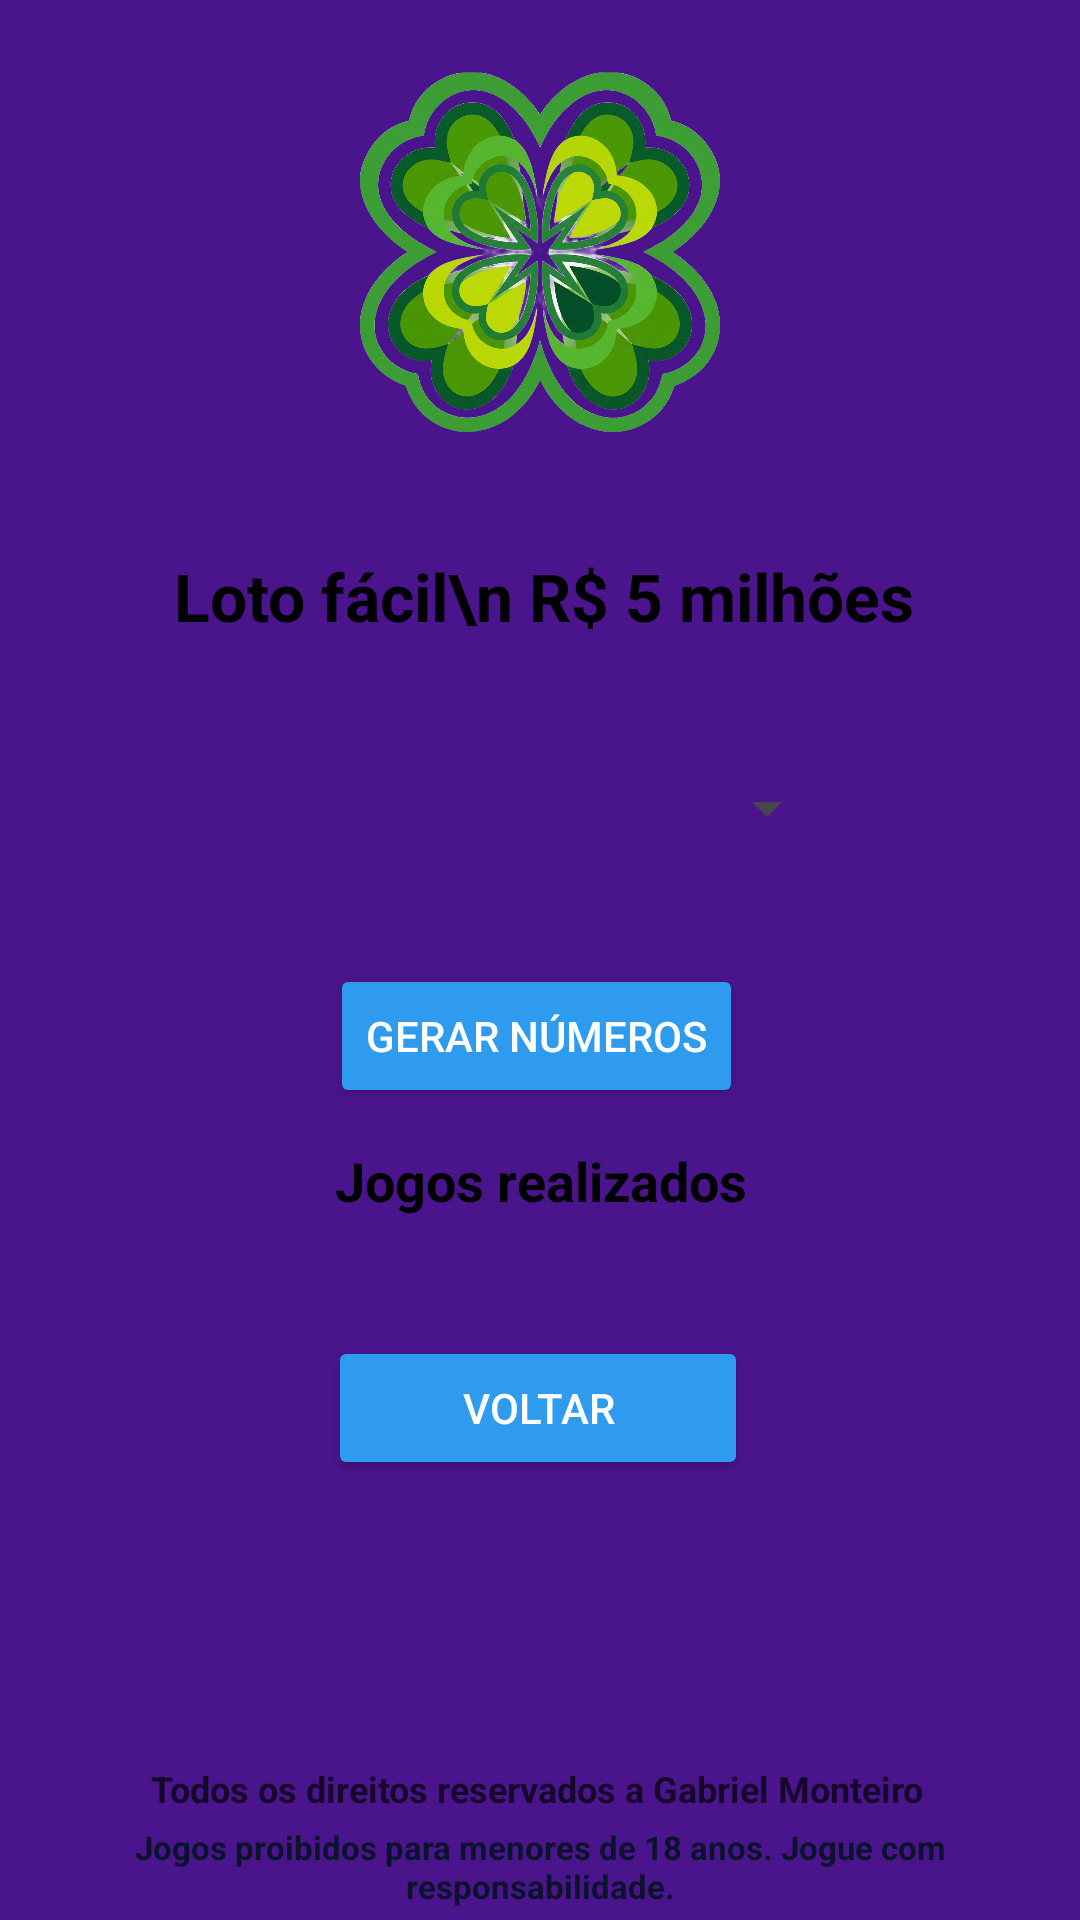

Screen size 1080w x 1920h. Icon name, then its center in pixels as (x=x, y=y):
Trevo da sorte: (x=540, y=252)
